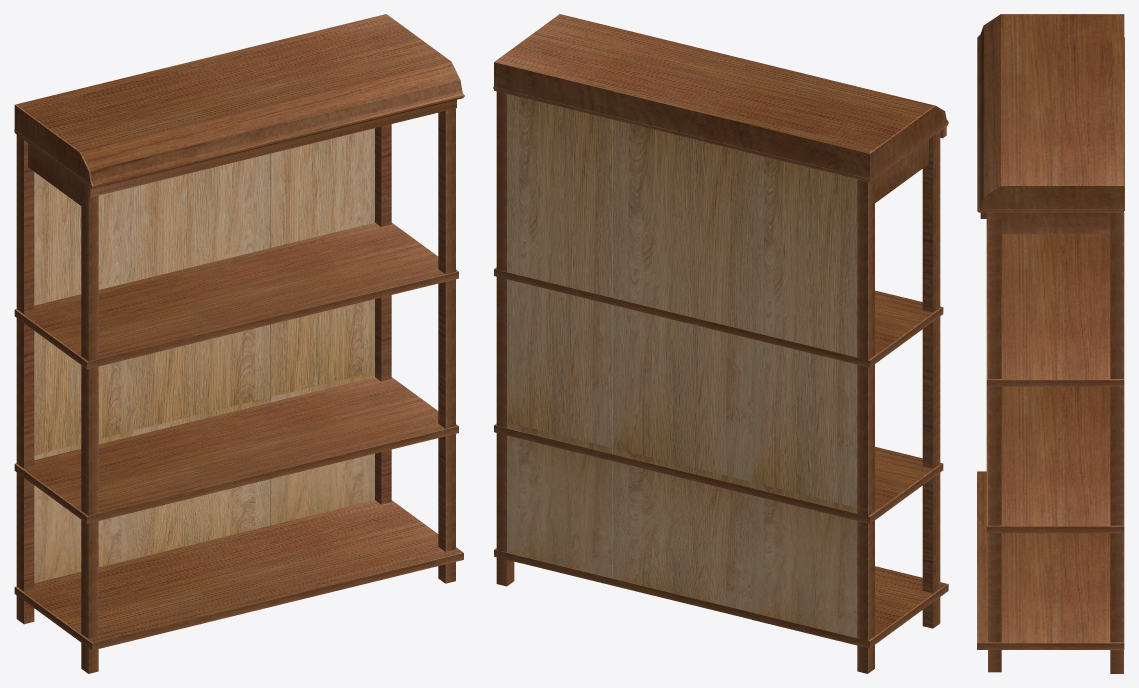
File: MuebleEstante2.fbx
3 views of the same model, side by side, from view 1: azimuth 30°, elevation 25°; view 2: azimuth 150°, elevation 25°; view 3: azimuth 270°, elevation 25° (orthographic). The views are drawn at different scales.
Parts seen in each view (by area): view 1: Cubo.015; view 2: Cubo.015; view 3: Cubo.015.
Part boxes in pixels (<box>): Cubo.015: <box>14,14,464,673</box>; Cubo.015: <box>493,14,948,673</box>; Cubo.015: <box>977,14,1124,673</box>.
Bounding box in the file's own units: 174 × 231 × 63.15.
6 materials, 6 textured.
